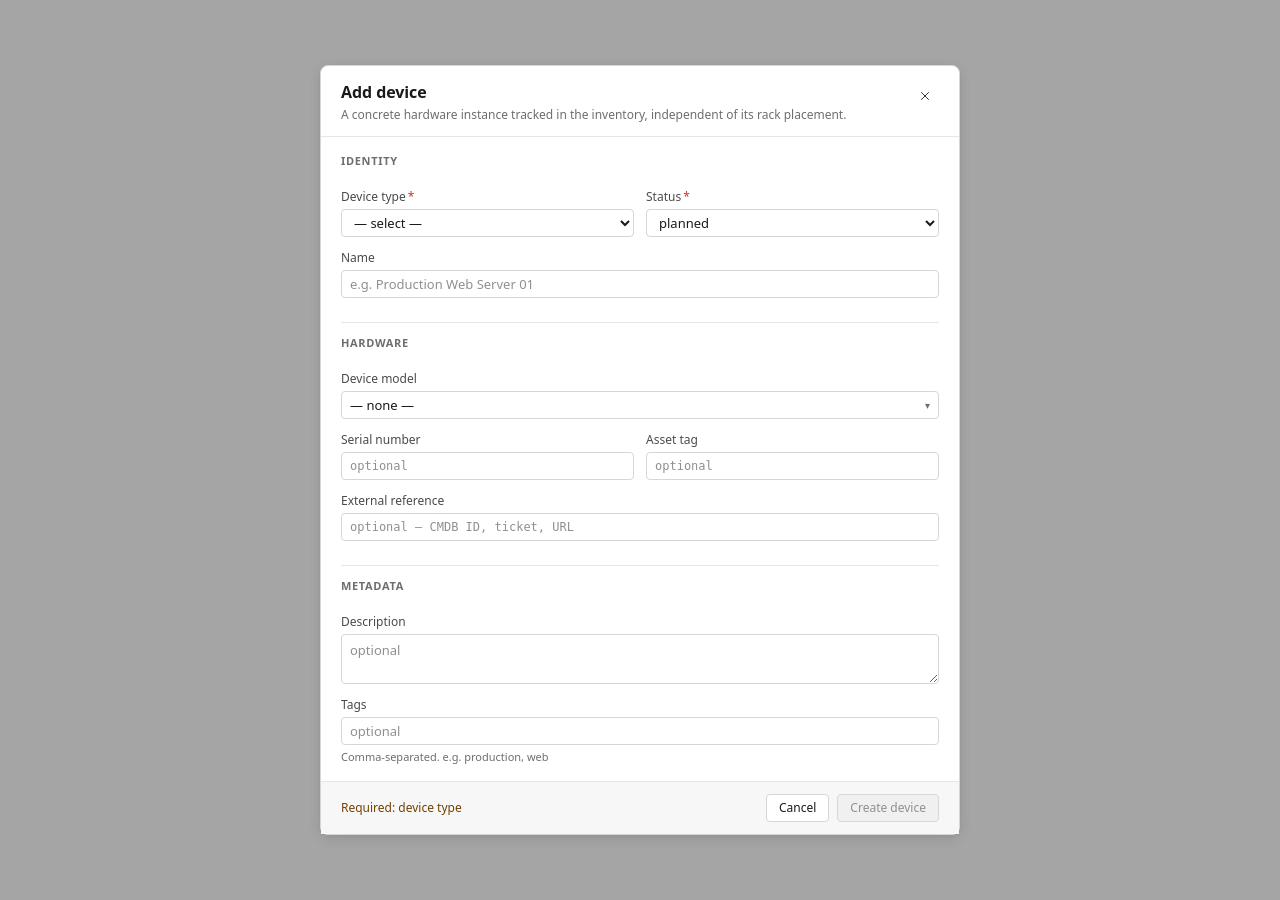
Scenario: DeviceFormModal — device type auto-fill from model › add mode: selecting a model with no device type auto-fills the type
Expected: the dropdown with test id "field-device-type" shows "— select —", [341, 209, 634, 237]
Click the button with test id "field-device-model-trigger": coordinates (382, 405) [341, 391, 939, 419]
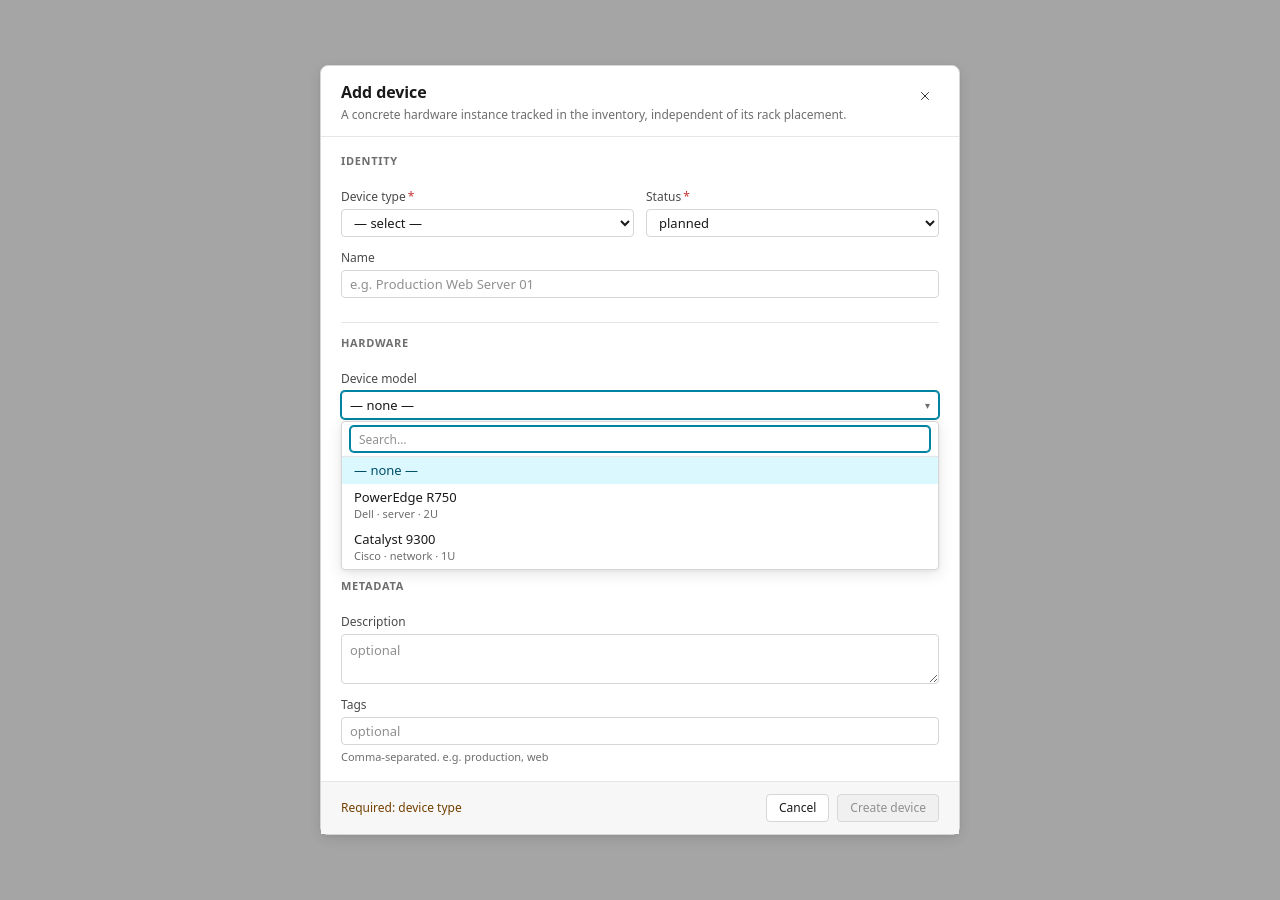
Now the text "PowerEdge R750" is shown, box [354, 488, 457, 506]
Press the mouse on the option "PowerEdge R750 Dell · server · 2U": coordinates (405, 505) [354, 488, 457, 521]
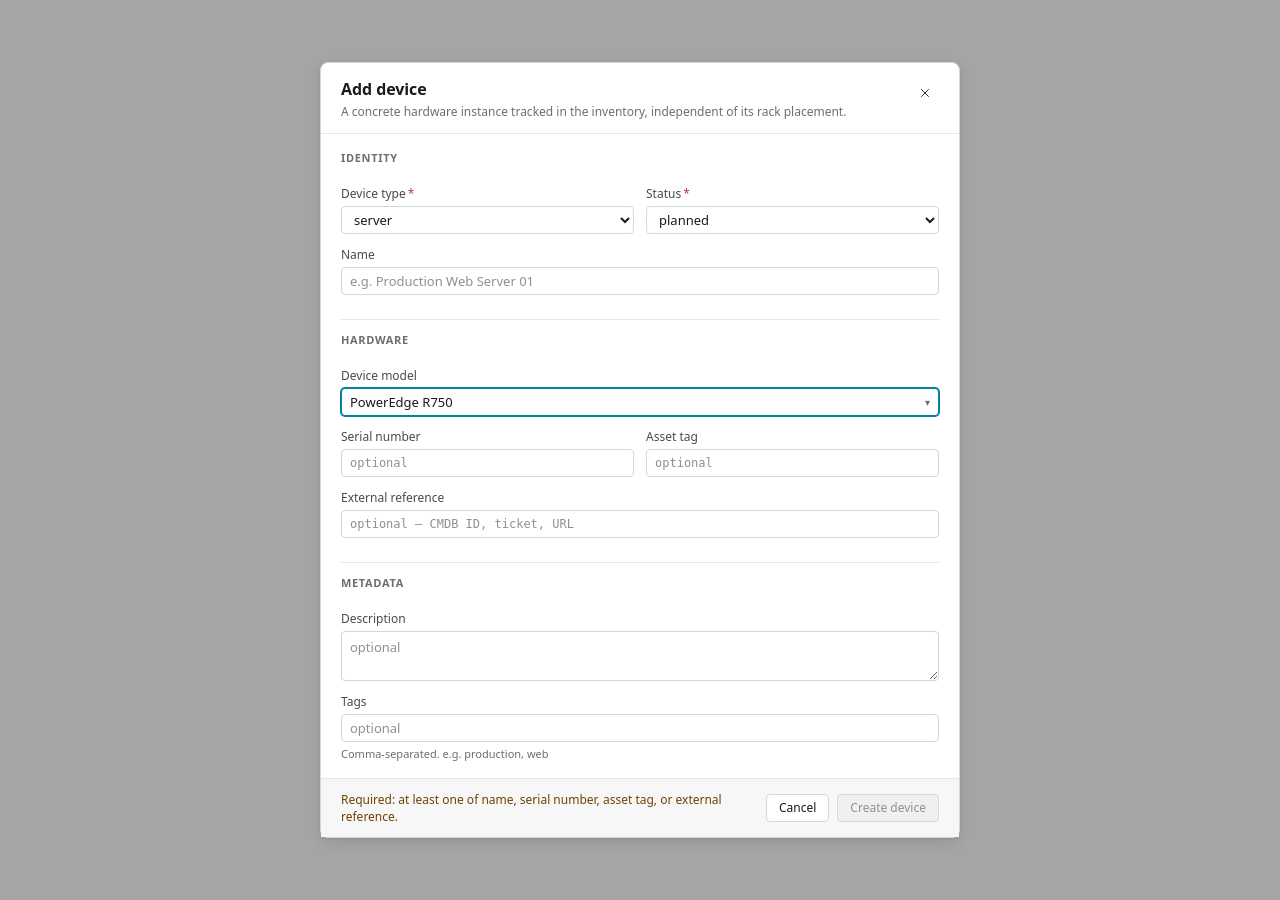
Now the dropdown with test id "field-device-type" shows "server", box [341, 206, 634, 234]
